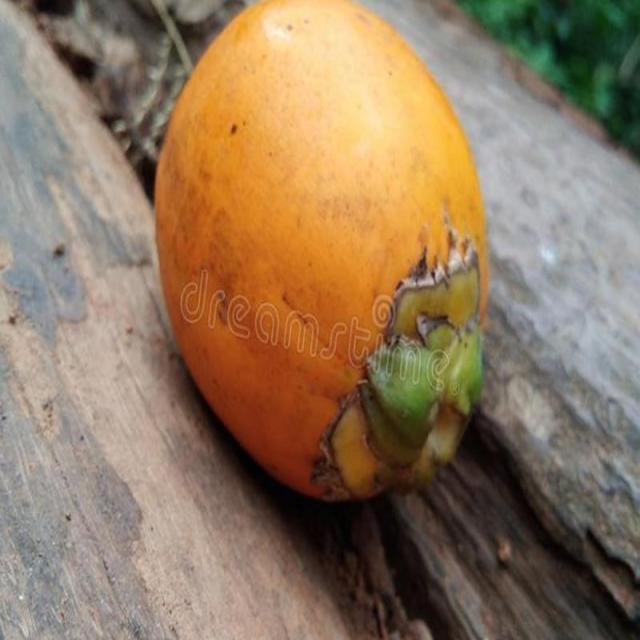good: (153, 0, 492, 507)
